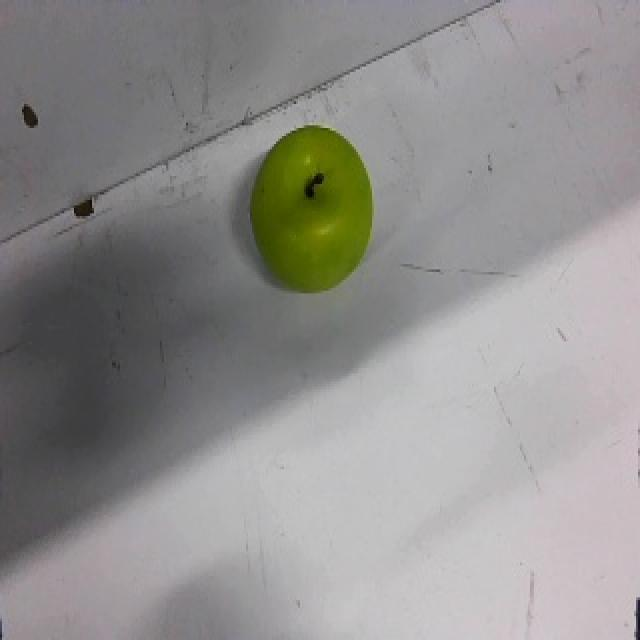apple: (248, 124, 374, 293)
